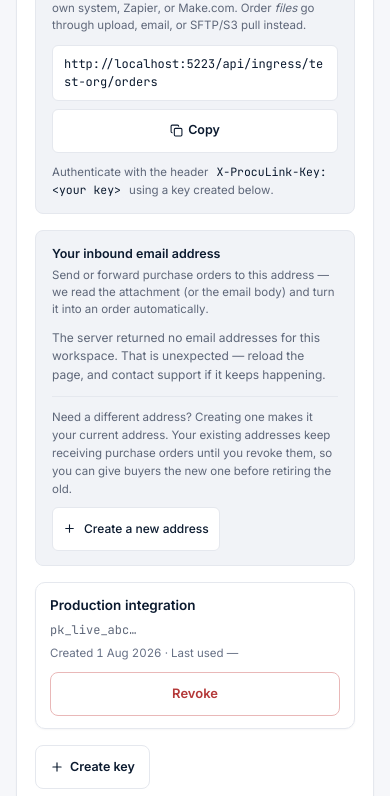
it: Settings — a failed API-key revoke says the key is still live › renders the same failure in the mobile card tree
(page scrolled)
Click the button "Revoke".
click(195, 694)  # box [50,672,340,716]
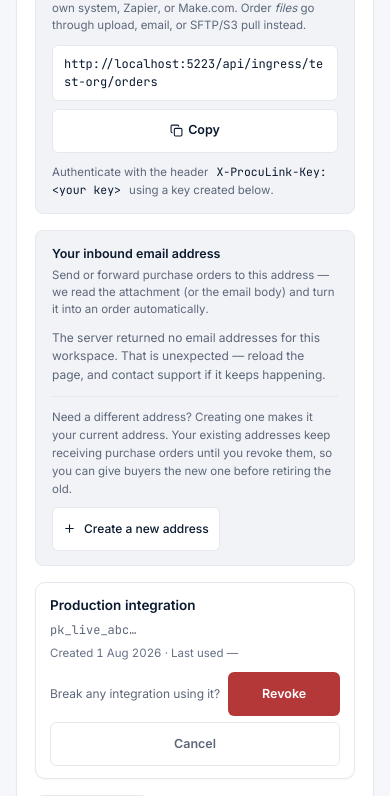
Click the button "Revoke".
click(284, 694)  # box [228,672,340,716]
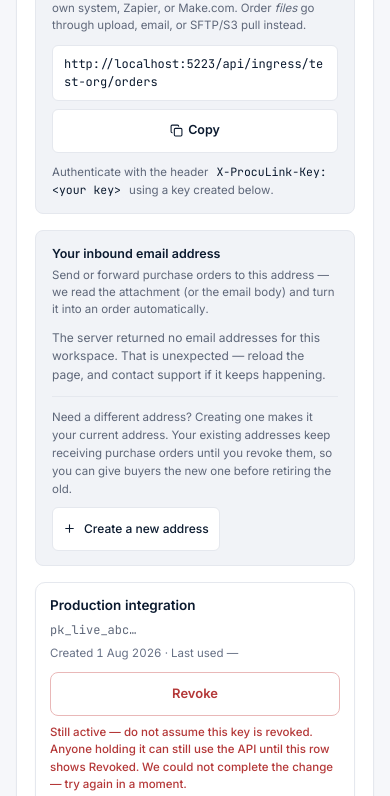
Check: the message shows "Still active", box [50,725,333,791]
